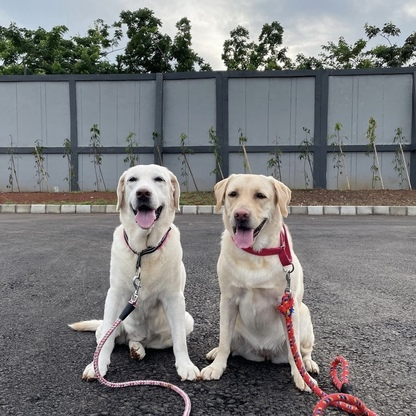labrado: (65, 161, 200, 387), (200, 169, 322, 397)
